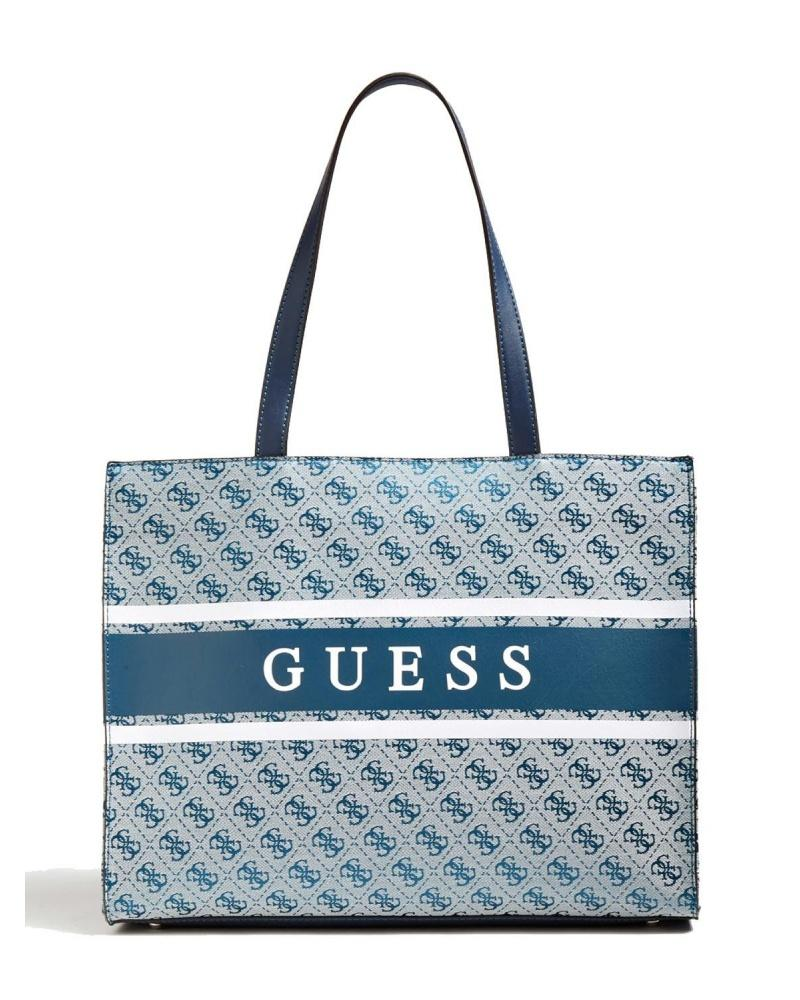GUESS: (263, 645, 531, 692)
